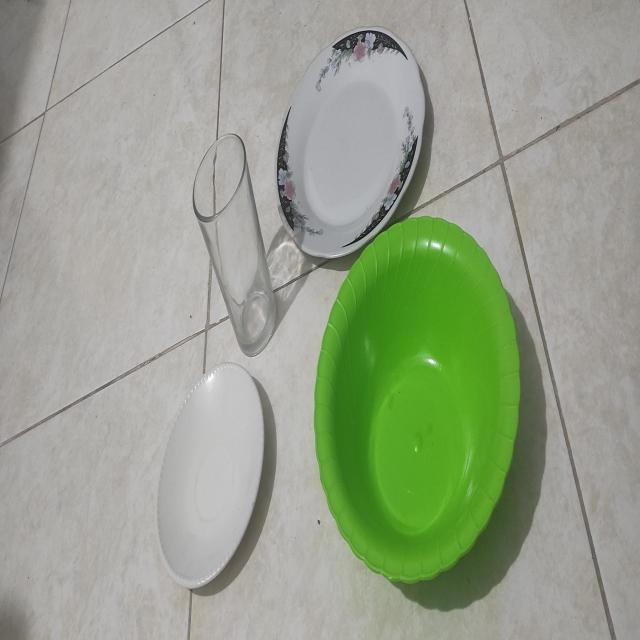non-organic waste: (308, 208, 546, 613), (268, 19, 440, 266), (145, 349, 274, 604)
